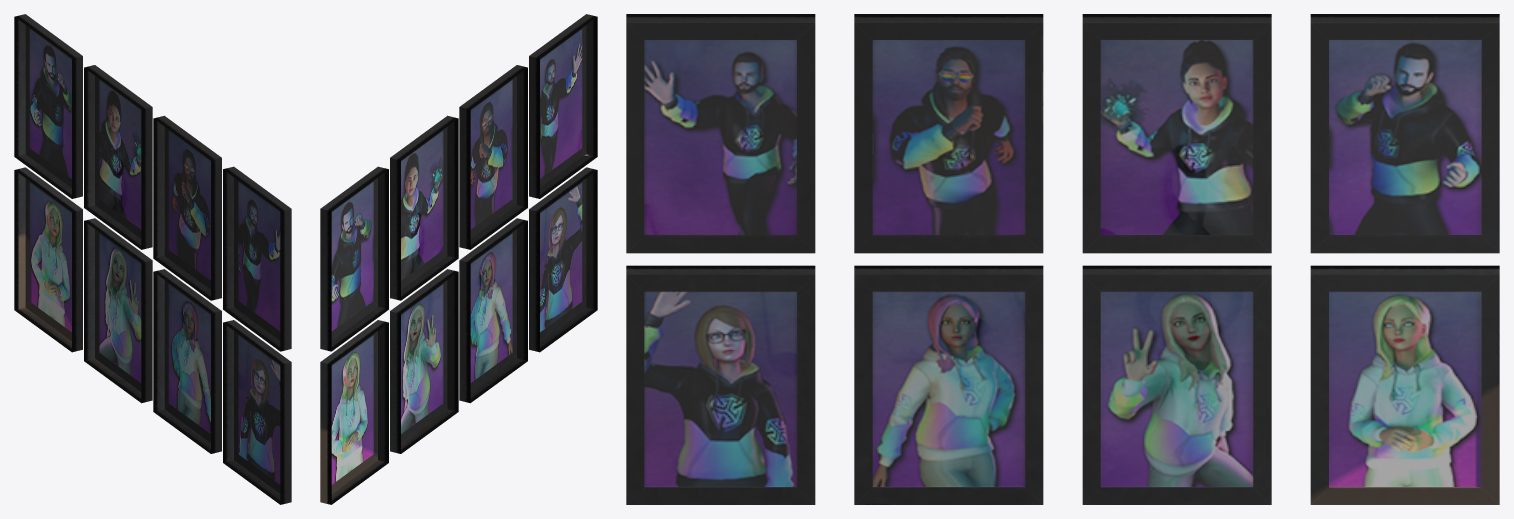
The model's file is Photos.obj.
3 views of the same model, side by side, from view 1: azimuth 30°, elevation 25°; view 2: azimuth 150°, elevation 25°; view 3: azimuth 270°, elevation 25° (orthographic). The views are drawn at different scales.
Parts seen in each view (by area): view 1: Object_20; view 2: Object_20; view 3: Object_20.
Boxes of the visible parts, left/top/right/bottom form: Object_20: left=14, top=14, right=291, bottom=504; Object_20: left=320, top=14, right=597, bottom=504; Object_20: left=626, top=14, right=1499, bottom=504.
Size of the model in its own units: 0.0582 by 1.47 by 2.42.
1 material, 1 textured.
